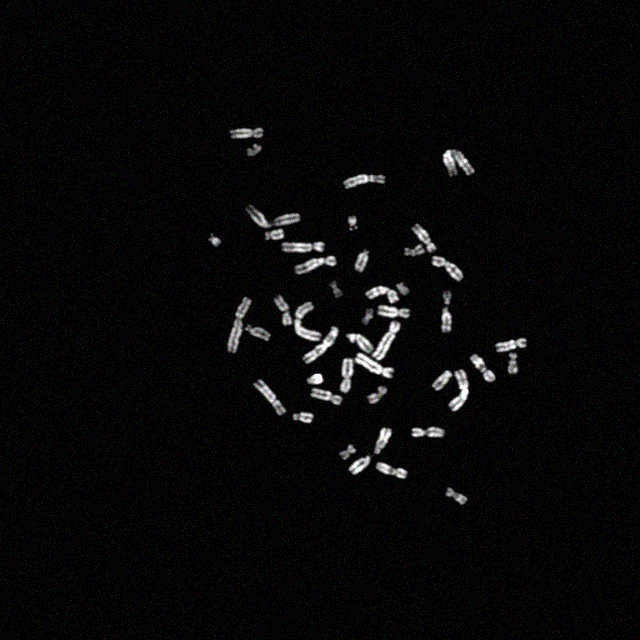chromosome: (228, 297, 252, 353), (304, 326, 338, 364), (247, 204, 299, 228), (254, 380, 286, 416), (372, 322, 400, 360), (295, 302, 321, 341), (354, 354, 394, 378), (443, 150, 475, 177), (449, 370, 469, 412), (432, 256, 463, 282), (296, 256, 336, 274), (470, 353, 494, 382), (344, 174, 386, 190), (412, 224, 436, 252), (365, 286, 399, 304), (274, 294, 292, 326), (346, 333, 374, 352), (310, 388, 342, 404), (377, 462, 408, 478), (374, 428, 392, 454), (341, 358, 354, 392), (348, 456, 370, 476), (282, 242, 324, 252), (496, 338, 526, 352), (245, 325, 271, 341), (432, 371, 452, 391), (377, 306, 409, 318), (368, 386, 387, 404), (229, 128, 263, 138), (447, 488, 468, 504), (355, 248, 369, 272), (412, 427, 444, 437), (340, 444, 356, 460), (264, 228, 284, 240), (442, 308, 452, 332), (405, 245, 425, 257), (293, 412, 313, 423), (330, 280, 342, 298), (508, 352, 518, 373), (208, 233, 222, 247), (362, 309, 373, 325), (247, 144, 261, 156), (397, 282, 409, 296), (307, 374, 323, 384), (348, 216, 358, 230), (443, 290, 451, 304)
